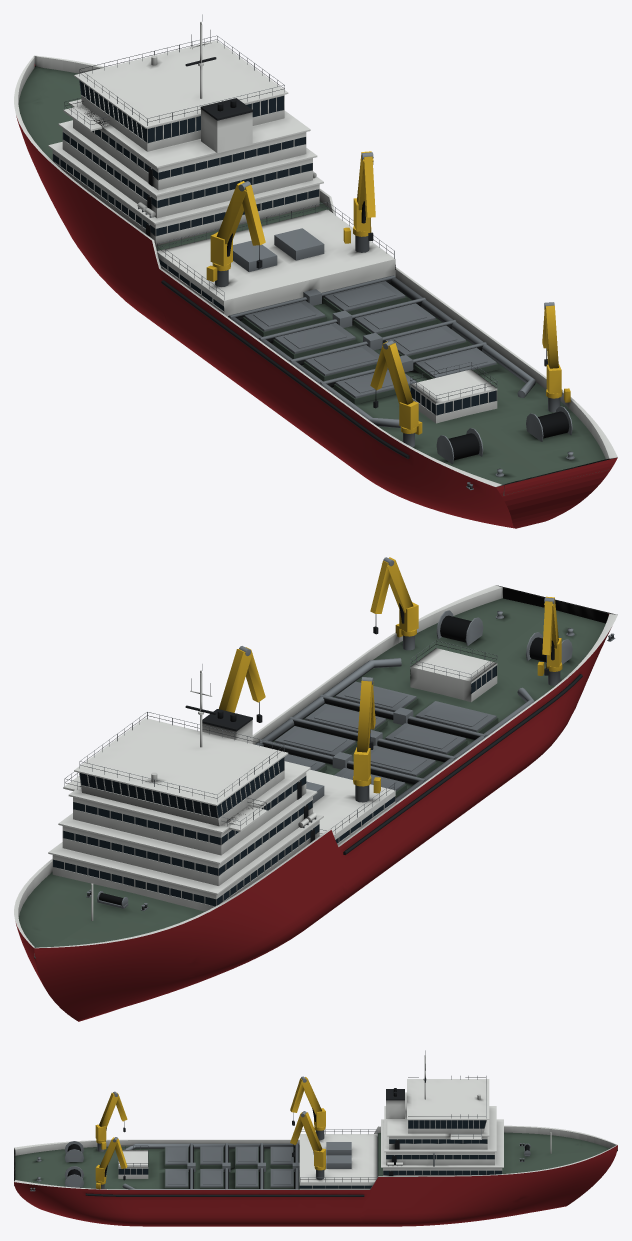
The model's file is wellboat_large_LOD0.glb.
The picture shows the model from 3 angles, top to bottom: view 1: azimuth 30°, elevation 25°; view 2: azimuth 150°, elevation 25°; view 3: azimuth 270°, elevation 25°; orthographic projection. The views are drawn at different scales.
Parts seen in each view (by area): view 1: Superstructure, Hull, Machinery, Deck, Windows, Crane, Rubber; view 2: Superstructure, Hull, Deck, Machinery, Windows, Crane, Rubber; view 3: Hull, Superstructure, Deck, Machinery, Crane, Windows, Rubber.
Boxes of the visible parts, x1,y1,x2,y2 form: Superstructure: (14, 21, 617, 495); Hull: (16, 64, 617, 528); Machinery: (64, 14, 574, 490); Deck: (18, 66, 608, 494); Windows: (53, 81, 496, 415); Crane: (206, 151, 570, 434); Rubber: (146, 30, 569, 460); Superstructure: (14, 585, 617, 958); Hull: (16, 614, 611, 1021); Deck: (18, 598, 605, 958); Machinery: (64, 557, 615, 910); Windows: (53, 665, 496, 906); Crane: (219, 557, 562, 793); Rubber: (99, 603, 582, 905); Hull: (14, 1145, 617, 1226); Superstructure: (14, 1055, 617, 1189); Deck: (15, 1132, 617, 1189); Machinery: (30, 1050, 530, 1191); Crane: (95, 1077, 325, 1189); Windows: (118, 1120, 501, 1188); Rubber: (67, 1064, 529, 1196).
Size of the model in its own units: 23.7 by 32.94 by 116.
